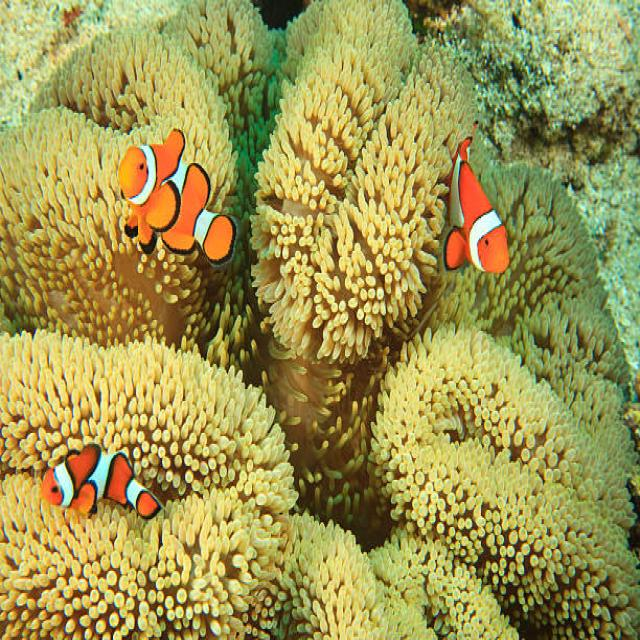ClownFish: (114, 130, 235, 268), (446, 133, 511, 276), (42, 446, 163, 522), (124, 521, 128, 535)
